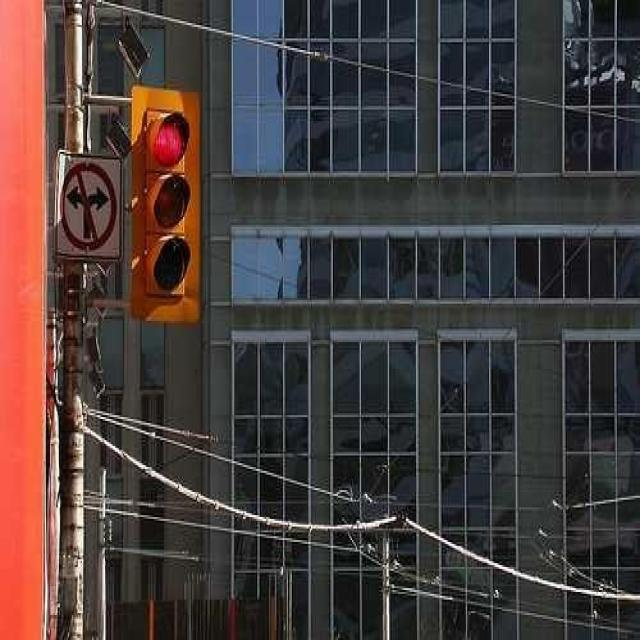Traffic Light -Red-: (134, 98, 195, 308)
